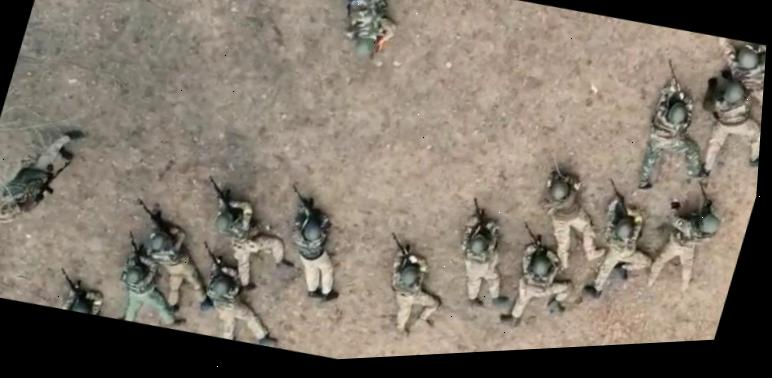person: (174, 168, 315, 304), (103, 191, 240, 326), (627, 53, 733, 203), (174, 234, 302, 353), (258, 179, 368, 308), (572, 174, 674, 309), (519, 163, 625, 283), (492, 215, 591, 337), (100, 225, 208, 335), (440, 192, 535, 314), (361, 228, 458, 344), (642, 173, 730, 297), (679, 71, 765, 192), (0, 114, 85, 235), (266, 0, 408, 70), (686, 32, 767, 149), (46, 262, 125, 321)
